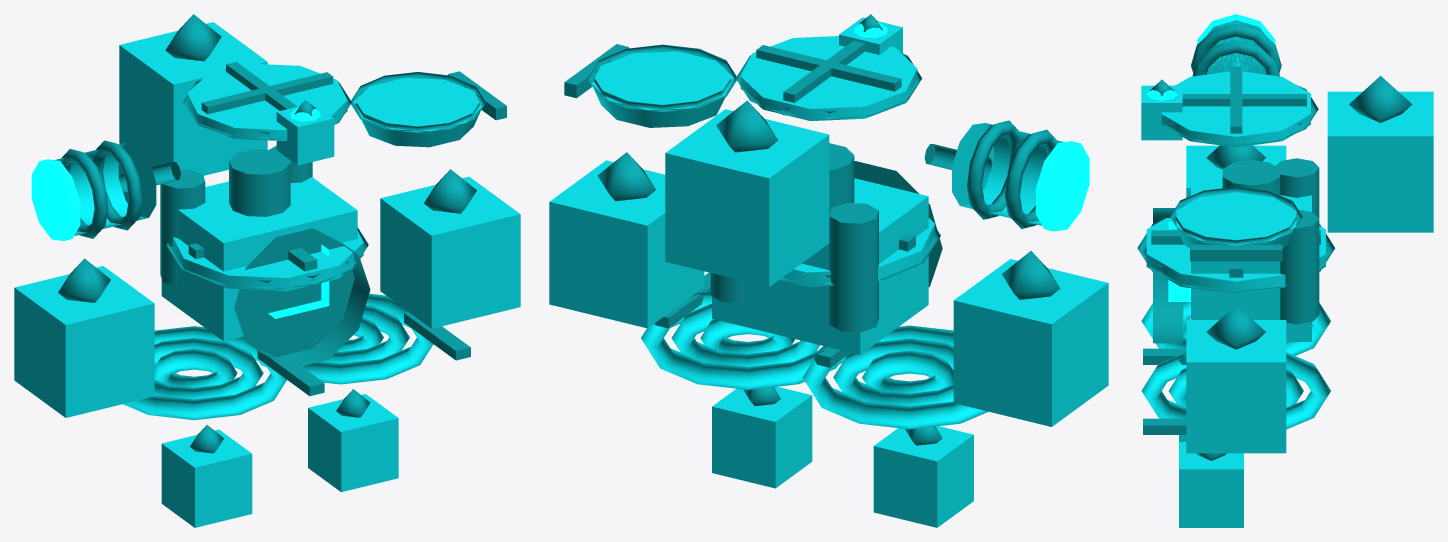
File: golem_080.glb
3 views of the same model, side by side, from view 1: azimuth 30°, elevation 25°; view 2: azimuth 150°, elevation 25°; view 3: azimuth 270°, elevation 25° (orthographic). The views are drawn at different scales.
Parts seen in each view (by area): view 1: Body, Detail, Glow; view 2: Body, Detail, Glow; view 3: Body, Detail, Glow.
Part boxes in pixels (left/top/right/bottom): Body: left=14, top=22, right=520, bottom=527; Detail: left=58, top=14, right=506, bottom=453; Glow: left=31, top=107, right=329, bottom=318; Body: left=549, top=17, right=1108, bottom=527; Detail: left=564, top=14, right=1060, bottom=445; Glow: left=854, top=22, right=1089, bottom=231; Body: left=1141, top=20, right=1433, bottom=527; Detail: left=1137, top=24, right=1412, bottom=460; Glow: left=1146, top=14, right=1275, bottom=301.
Size of the model in its own units: 1.45 by 1.26 by 0.8407.
